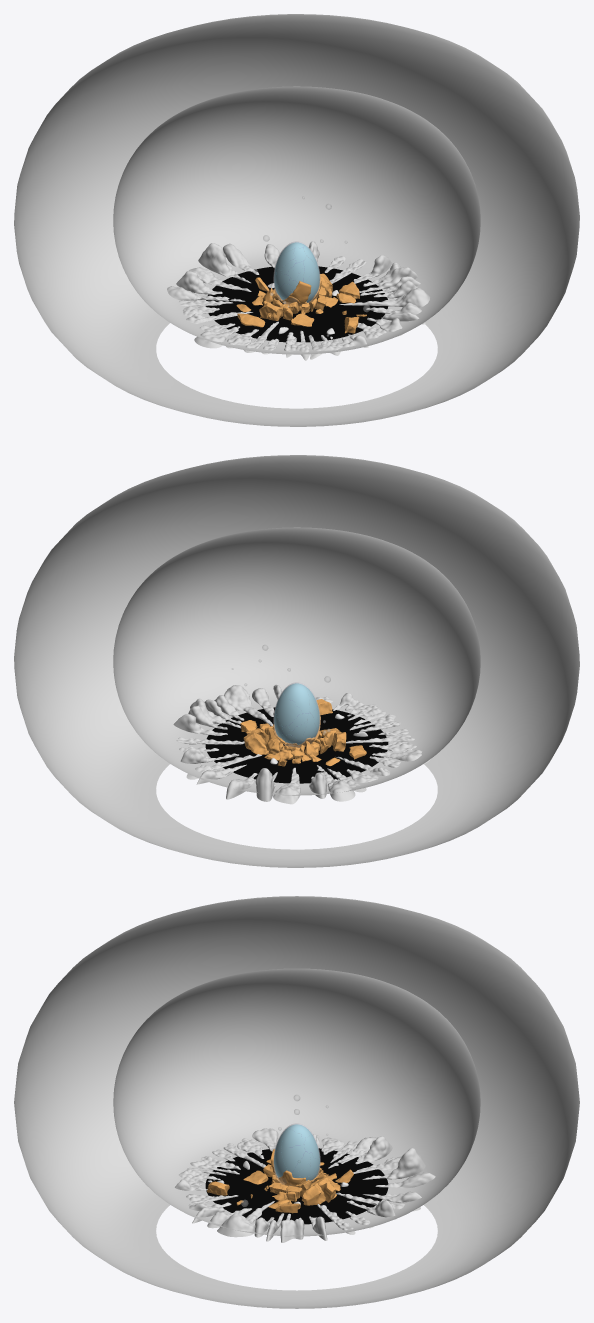
Rendered from PXLs_egg294.glb.
3 renders of one model, top to bottom at view 1: azimuth 30°, elevation 25°; view 2: azimuth 150°, elevation 25°; view 3: azimuth 270°, elevation 25°, orthographic.
Parts seen in each view (by area): view 1: outerCylinder, innerCylinder, pinkGooRim, floorBase, rockDebris, smoke4, smoke3, crackedEgg; view 2: outerCylinder, innerCylinder, pinkGooRim, floorBase, rockDebris, smoke4, smoke3, crackedEgg; view 3: outerCylinder, innerCylinder, pinkGooRim, floorBase, rockDebris, smoke4, smoke3, crackedEgg.
Part boxes in pixels (x1,y1,x2,y2): outerCylinder: (14,14,579,426); innerCylinder: (113,86,480,354); pinkGooRim: (167,241,429,360); floorBase: (205,266,388,342); rockDebris: (237,273,359,333); smoke4: (273,241,320,305); smoke3: (274,241,319,302); crackedEgg: (274,242,319,302); outerCylinder: (14,455,579,867); innerCylinder: (113,527,480,795); pinkGooRim: (173,684,430,804); floorBase: (205,707,388,783); rockDebris: (240,699,366,766); smoke4: (273,682,320,747); smoke3: (274,682,319,746); crackedEgg: (274,683,319,744); outerCylinder: (14,896,579,1308); innerCylinder: (113,968,480,1236); pinkGooRim: (175,1128,435,1242); floorBase: (205,1148,388,1224); rockDebris: (207,1156,353,1213); smoke4: (273,1123,320,1185); smoke3: (274,1123,320,1179); crackedEgg: (274,1124,319,1180).
Size of the model in its own units: 22.69 by 11.36 by 22.69.
Materials: 8 (2 with a texture image).
